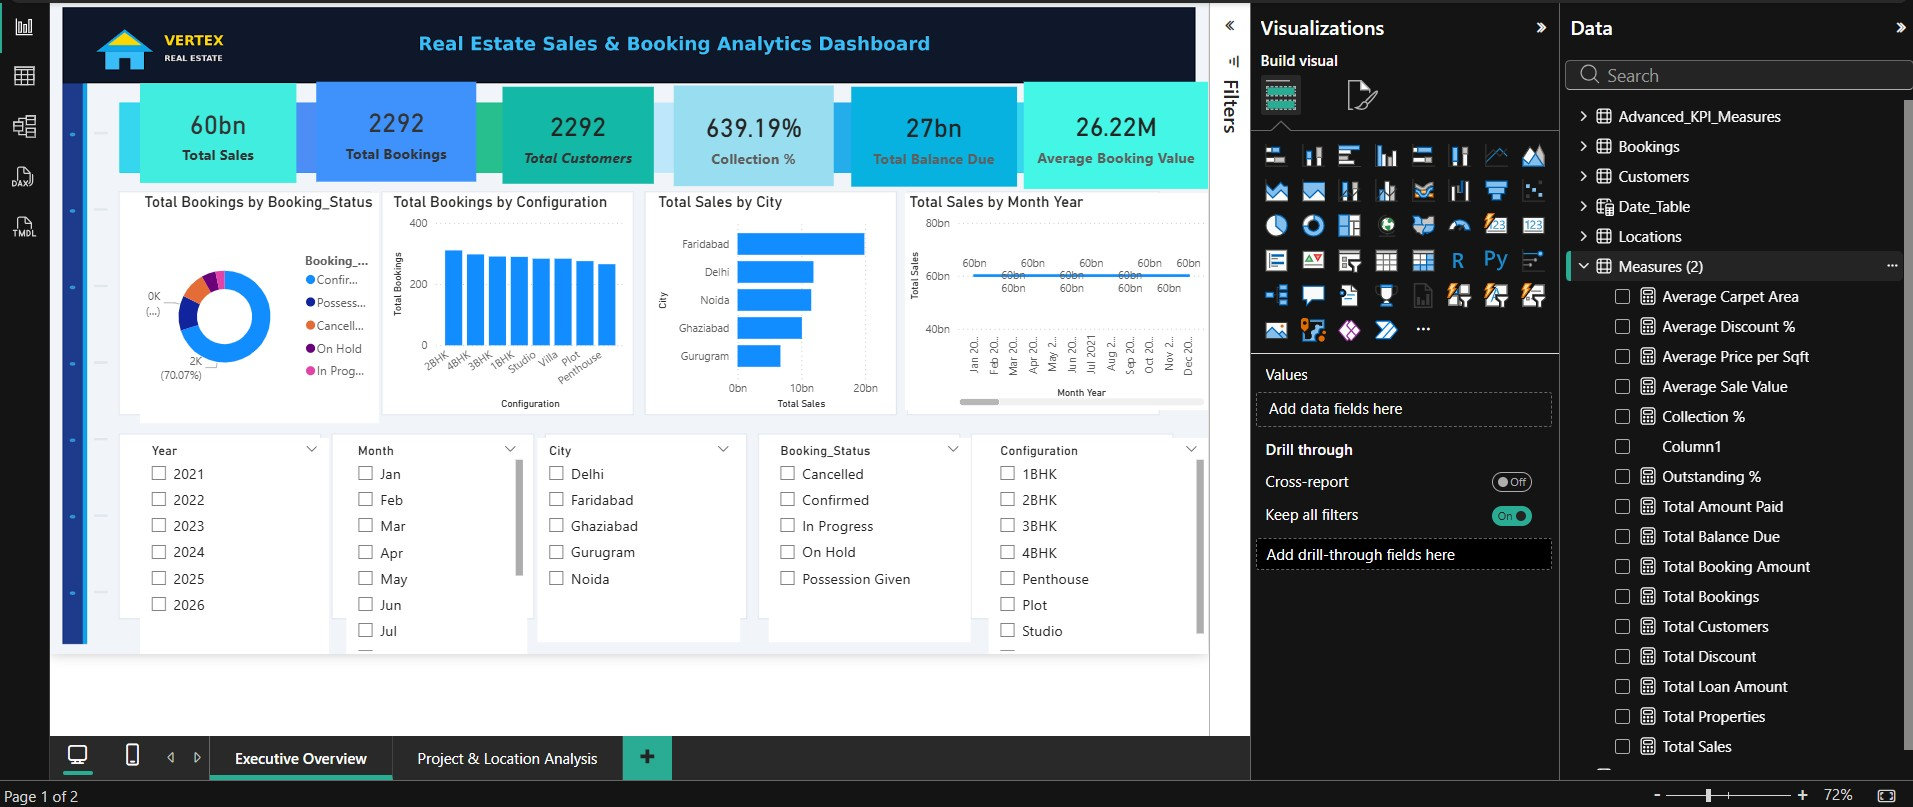

Layout of this report page (visuals, bound fields, positions):
{"tool":"powerbi","page":{"name":"Executive Overview","canvas":[1280,720],"ordinal":0},"visuals":[{"type":"card","fields":{"Values":["Measures (2).Total Sales"]},"box":[100,88.6,172.9,110],"z":1000},{"type":"card","fields":{"Values":["Measures (2).Total Bookings"]},"box":[294.3,87.1,177.1,110],"z":2000},{"type":"card","fields":{"Values":["Measures (2).Total Customers"]},"box":[500,92.9,167.1,107.1],"z":3000},{"type":"card","fields":{"Values":["Measures (2).Collection %"]},"box":[688.6,91.4,177.1,111.4],"z":4000},{"type":"card","fields":{"Values":["Measures (2).Total Balance Due"]},"box":[885.7,92.9,182.9,110],"z":5000},{"type":"card","fields":{"Values":["Advanced_KPI_Measures.Average Booking Value"]},"box":[1075.7,87.1,204.3,118.6],"z":6000},{"type":"lineChart","fields":{"Category":["Date_Table.Month Year"],"Y":["Measures (2).Total Sales"]},"box":[944.3,210,335.7,240],"z":7000},{"type":"clusteredBarChart","fields":{"Category":["Locations.City"],"Y":["Measures (2).Total Sales"]},"box":[667.1,210,252.9,244.3],"z":8000},{"type":"donutChart","fields":{"Category":["Bookings.Booking_Status"],"Y":["Measures (2).Total Bookings"]},"box":[100,210,264.3,254.3],"z":9000},{"type":"clusteredColumnChart","fields":{"Category":["Bookings.Configuration"],"Y":["Measures (2).Total Bookings"]},"box":[374.3,210,265.7,244.3],"z":10000},{"type":"slicer","fields":{"Values":["Date_Table.Year"]},"box":[100,480,208.6,240],"z":11000},{"type":"slicer","fields":{"Values":["Date_Table.Month"]},"box":[327.1,480,200,240],"z":12000},{"type":"slicer","fields":{"Values":["Locations.City"]},"box":[538.6,480,224.3,225.7],"z":13000},{"type":"slicer","fields":{"Values":["Bookings.Booking_Status"]},"box":[794.3,480,222.9,225.7],"z":14000},{"type":"slicer","fields":{"Values":["Bookings.Configuration"]},"box":[1037.1,480,242.9,240],"z":15000}]}

Visuals, with their boxes on the page's 1280x720 design canvas (x1, y1, x2, y2). These are canvas units, not pixel positions in the 1913x807 screenshot, which may show the page scaled, cropped or inside an application window:
card - Measures (2).Total Sales: locate(100, 89, 273, 199)
card - Measures (2).Total Bookings: locate(294, 87, 471, 197)
card - Measures (2).Total Customers: locate(500, 93, 667, 200)
card - Measures (2).Collection %: locate(689, 91, 866, 203)
card - Measures (2).Total Balance Due: locate(886, 93, 1069, 203)
card - Advanced_KPI_Measures.Average Booking Value: locate(1076, 87, 1280, 206)
lineChart - Date_Table.Month Year x Measures (2).Total Sales: locate(944, 210, 1280, 450)
clusteredBarChart - Locations.City x Measures (2).Total Sales: locate(667, 210, 920, 454)
donutChart - Bookings.Booking_Status x Measures (2).Total Bookings: locate(100, 210, 364, 464)
clusteredColumnChart - Bookings.Configuration x Measures (2).Total Bookings: locate(374, 210, 640, 454)
slicer - Date_Table.Year: locate(100, 480, 309, 720)
slicer - Date_Table.Month: locate(327, 480, 527, 720)
slicer - Locations.City: locate(539, 480, 763, 706)
slicer - Bookings.Booking_Status: locate(794, 480, 1017, 706)
slicer - Bookings.Configuration: locate(1037, 480, 1280, 720)
